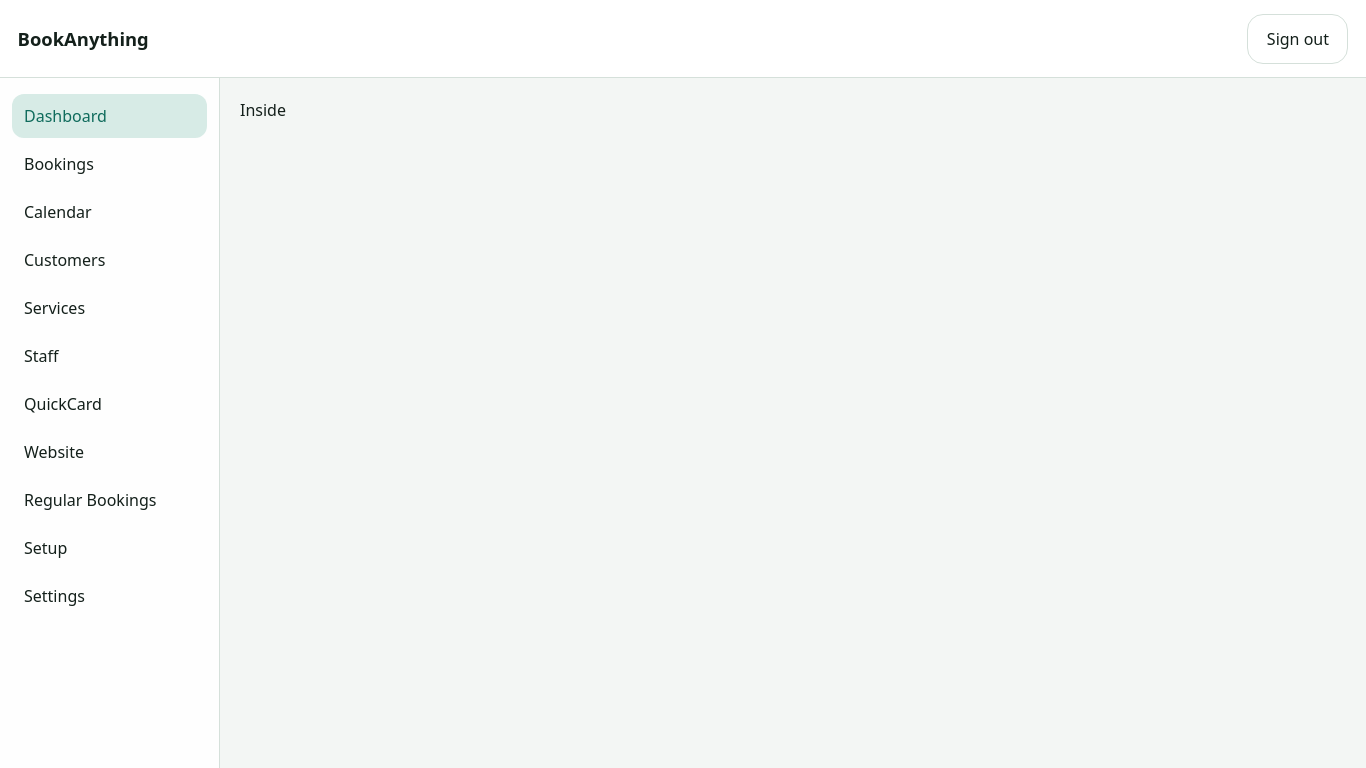
Test case: OwnerShell › signs out and clears token
expect the text "Inside" is shown: met, box [240, 99, 286, 121]
Click the button "Sign out".
click(1298, 39)  # box [1248, 14, 1348, 64]
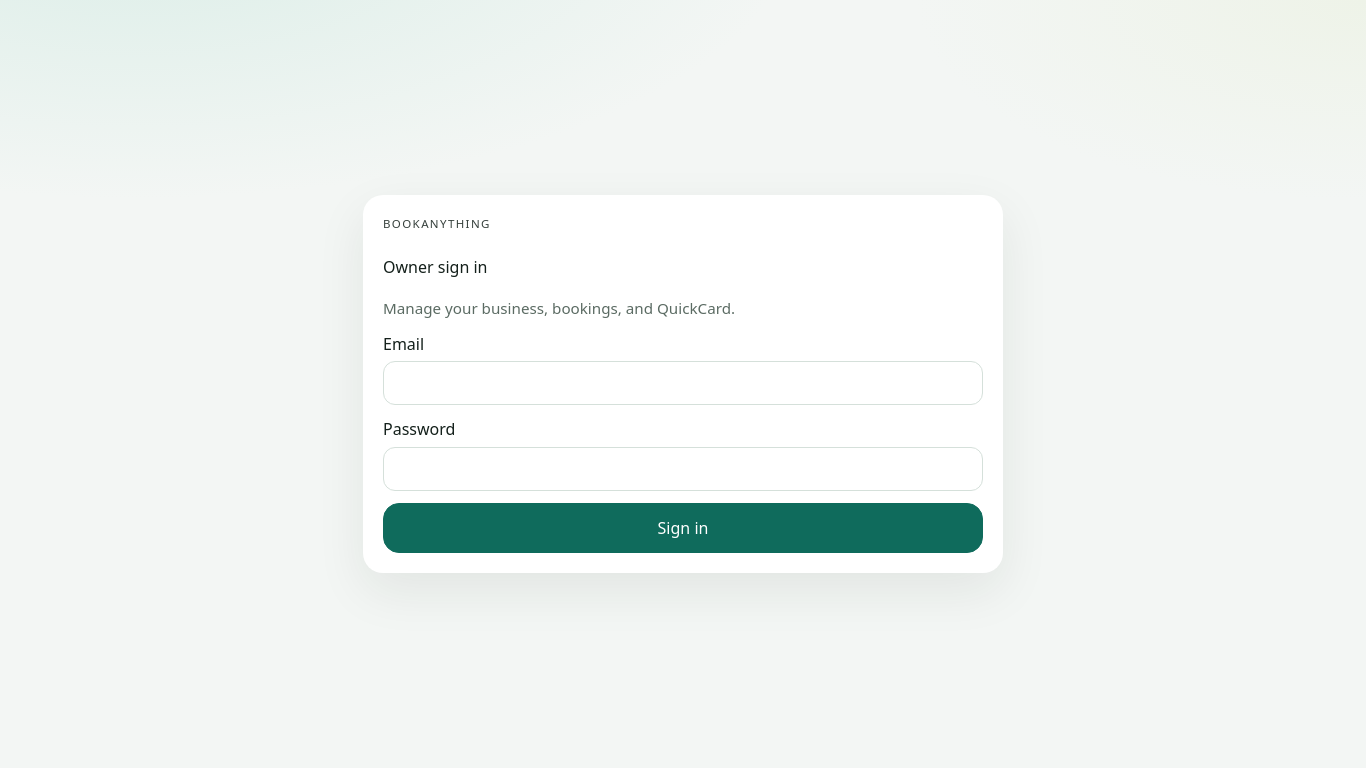
expect the heading "Owner sign in" is shown: met, box [383, 256, 488, 278]
